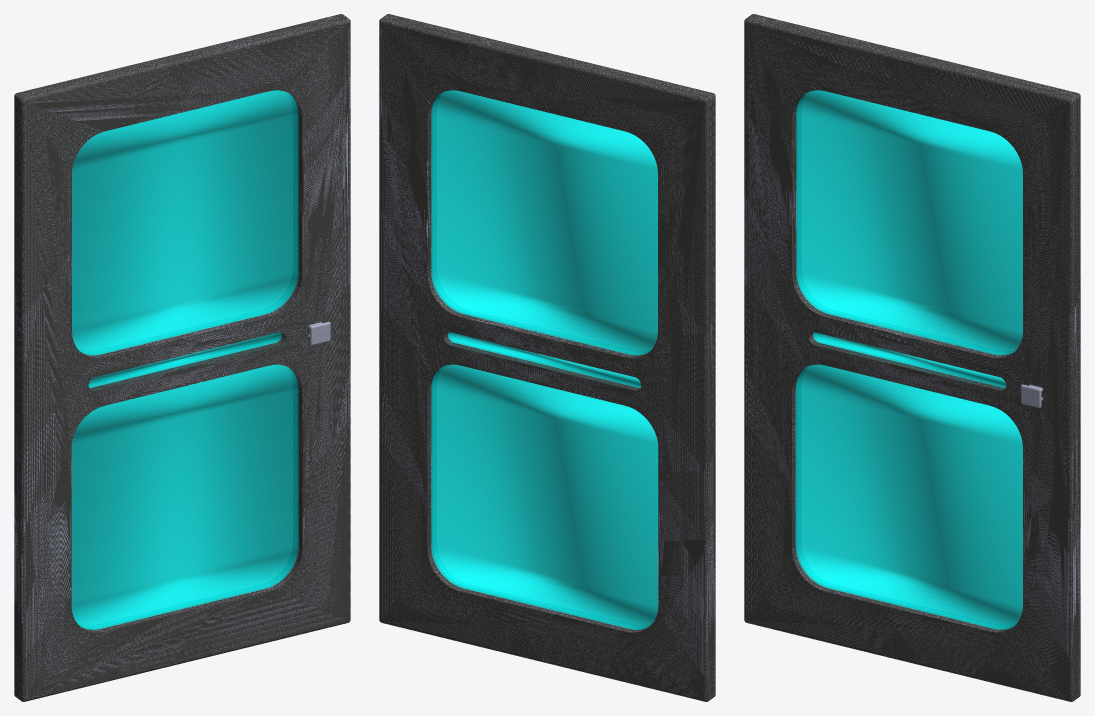
The model's file is Puerta Gris.fbx.
3 views of the same model, side by side, from view 1: azimuth 30°, elevation 25°; view 2: azimuth 150°, elevation 25°; view 3: azimuth 330°, elevation 25° (orthographic).
Visible parts, largest first — view 1: Group1; view 2: Group1; view 3: Group1.
Boxes of the visible parts, left/top/right/bottom form: Group1: left=14, top=14, right=350, bottom=701; Group1: left=379, top=14, right=715, bottom=701; Group1: left=744, top=14, right=1080, bottom=701.
Bounding box in the file's own units: 1 × 1.75 × 0.08.
